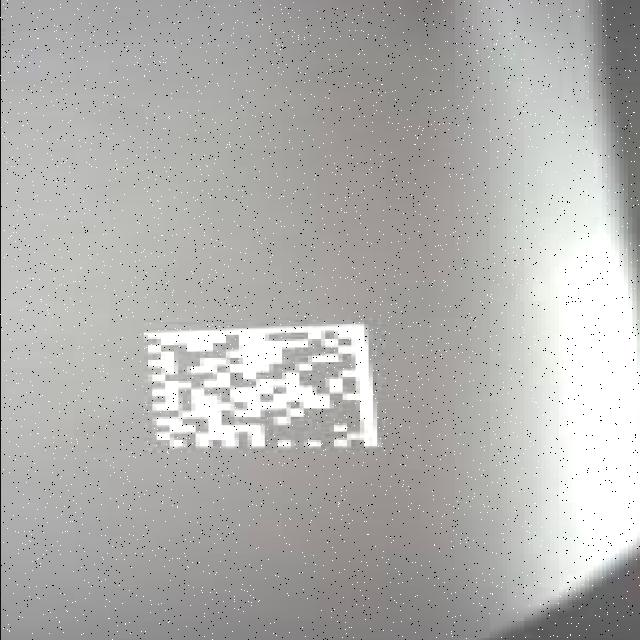datamatrix: (116, 314, 394, 461)
